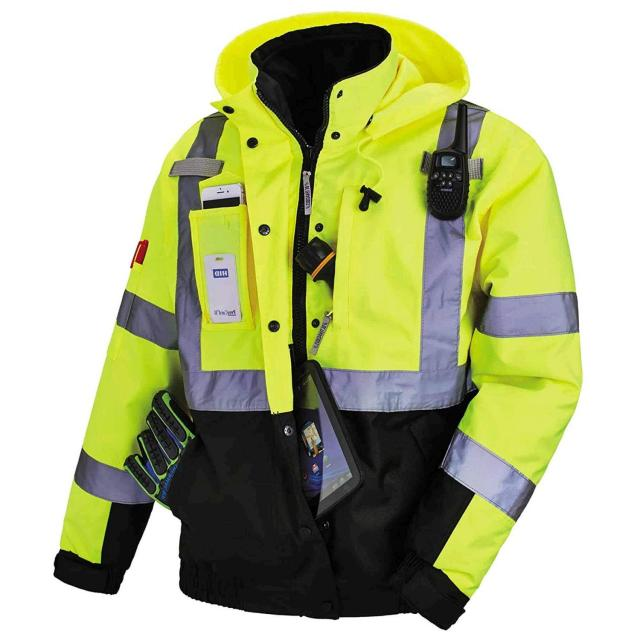Reflective-Jacket: (66, 23, 612, 636)
